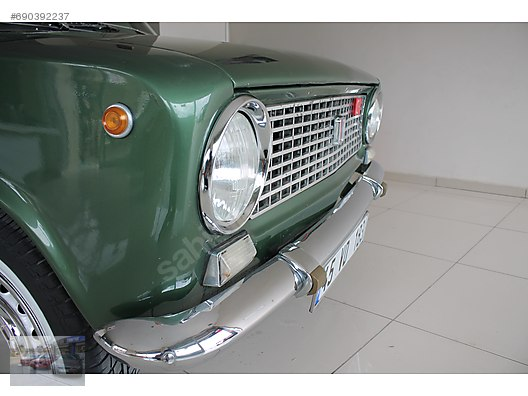murat: (1, 24, 396, 367)
